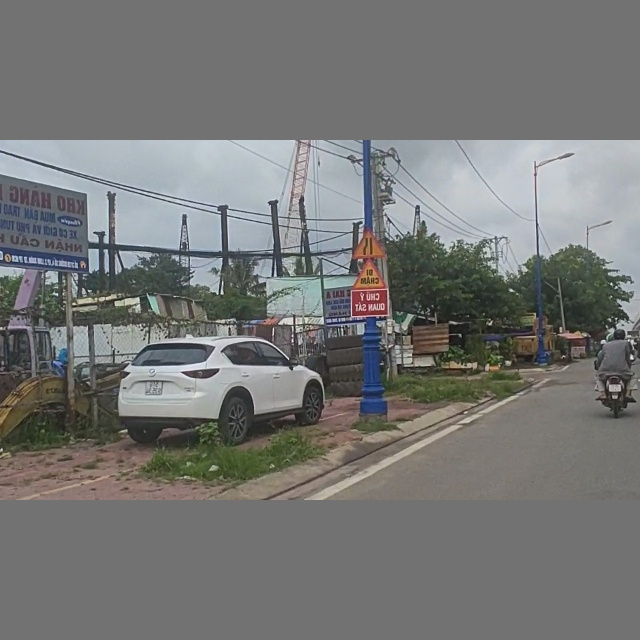W.203c: (350, 229, 385, 260)
W.245a: (347, 261, 387, 289)
